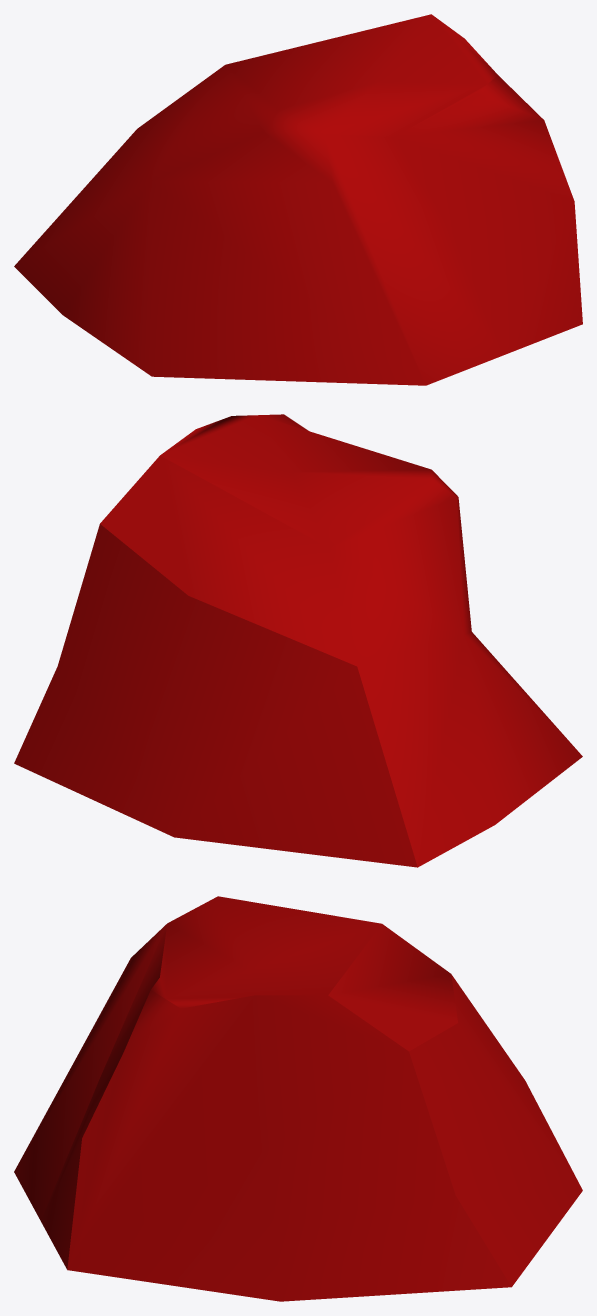
File: Rock_1.fbx
3 renders of one model, top to bottom at view 1: azimuth 30°, elevation 25°; view 2: azimuth 150°, elevation 25°; view 3: azimuth 270°, elevation 25°, orthographic. The views are drawn at different scales.
Visible parts, largest first — view 1: Rock_1; view 2: Rock_1; view 3: Rock_1.
Part boxes in pixels (x1,y1,x2,y2): Rock_1: (14,14,582,385); Rock_1: (14,414,582,867); Rock_1: (14,896,582,1301).
Size of the model in its own units: 8.22 by 4.41 by 8.6.
